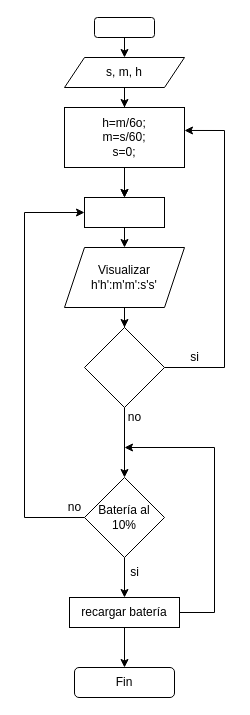
Image size: 250x715. Some labels were removed from this diagram. The shapes that lost their labels are listed below. From the top down, each one's centre as x and y in pixels, then its label:
At [124,27]: "INICIO".
At [124,212]: "s++;".
At [124,367]: "¿ s=86400 ?".
